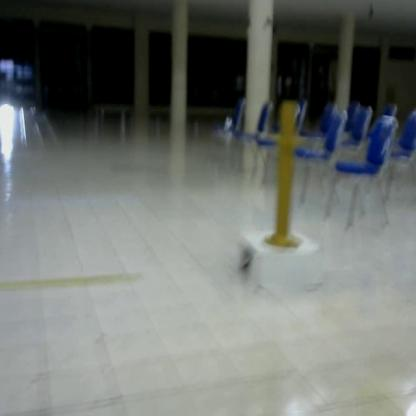pole: (260, 99, 312, 253)
